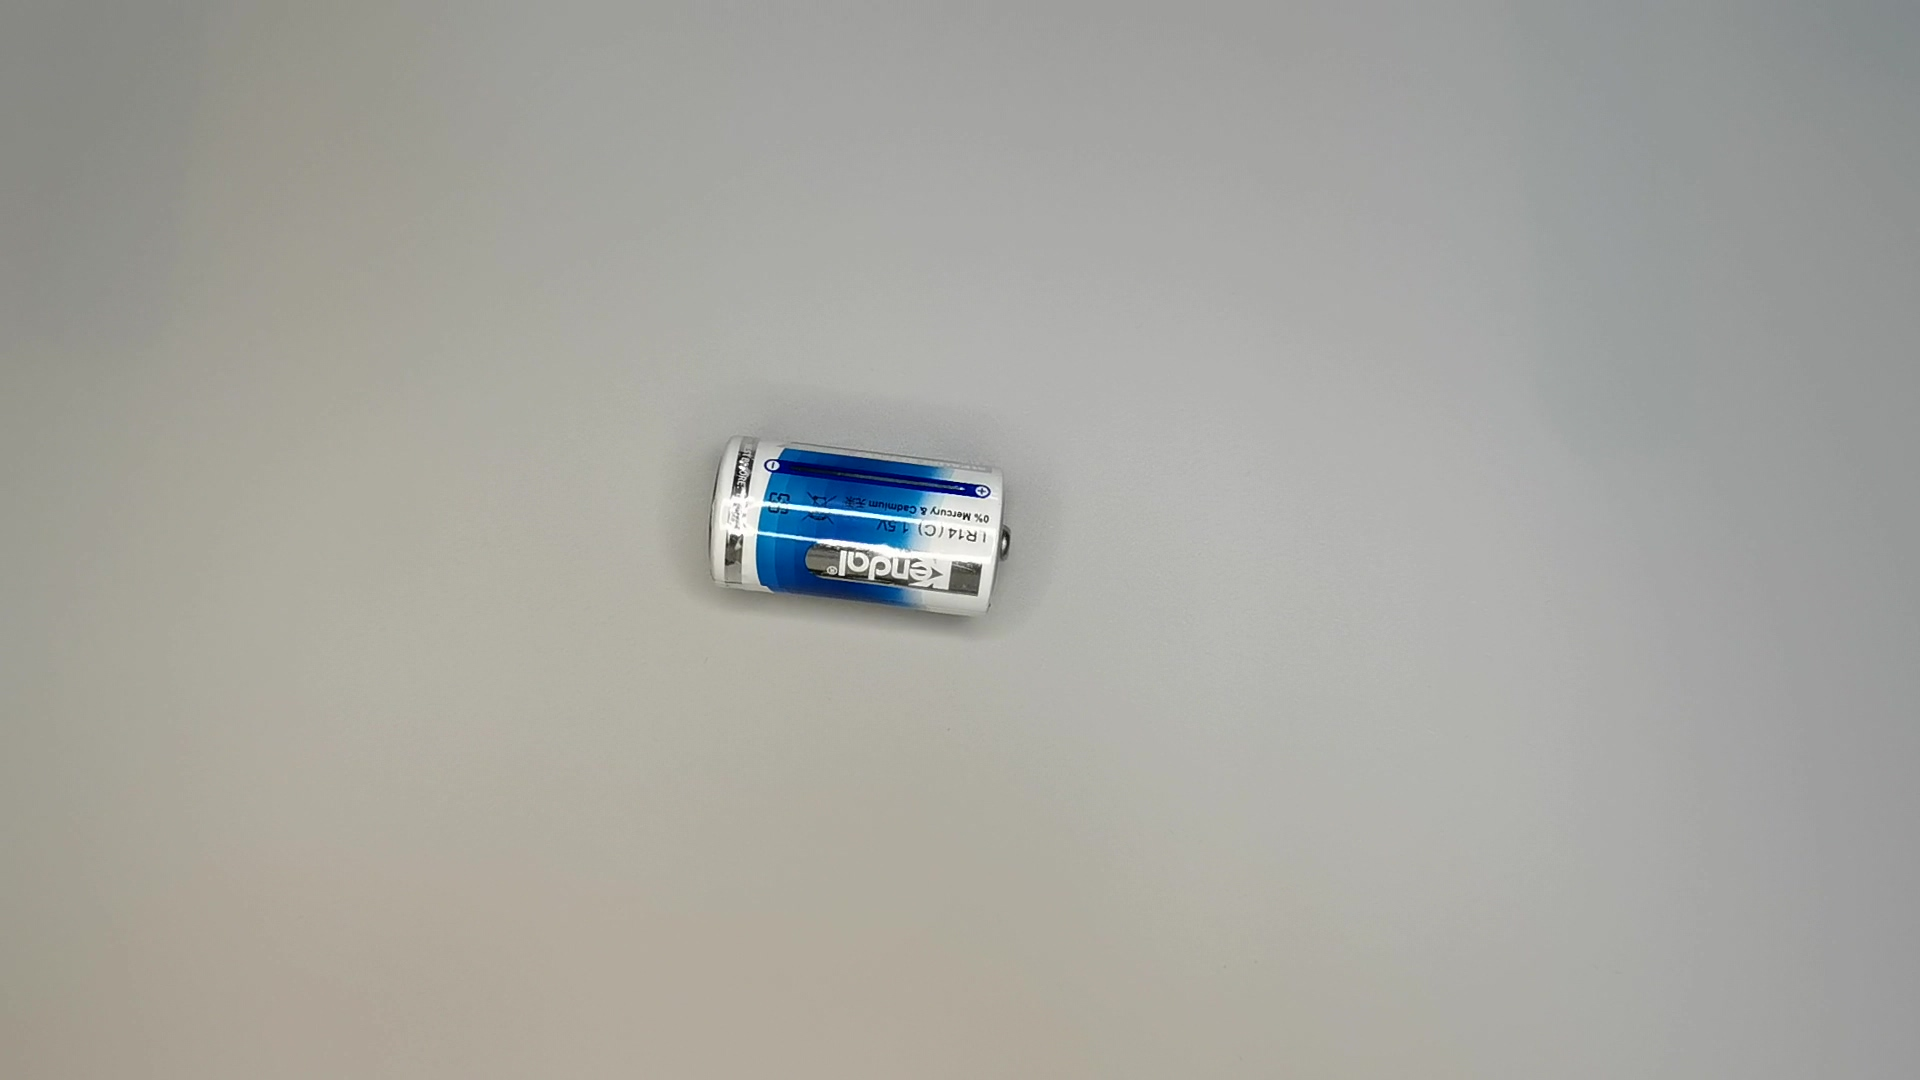battery: (703, 429, 1019, 634)
